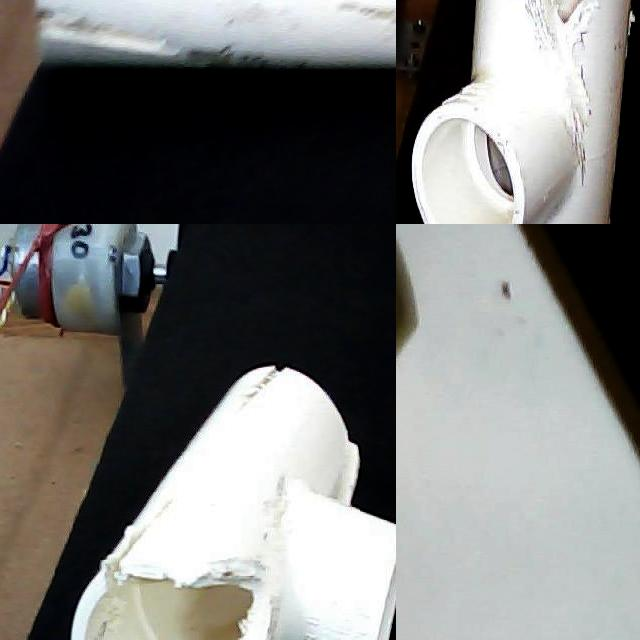Defective: (36, 0, 264, 73), (102, 490, 203, 602), (187, 545, 283, 640), (508, 0, 638, 66), (552, 126, 624, 198), (318, 414, 360, 526), (328, 0, 396, 50), (248, 356, 296, 420), (62, 621, 136, 640)
T Joint: (71, 365, 396, 640), (409, 0, 634, 224)
